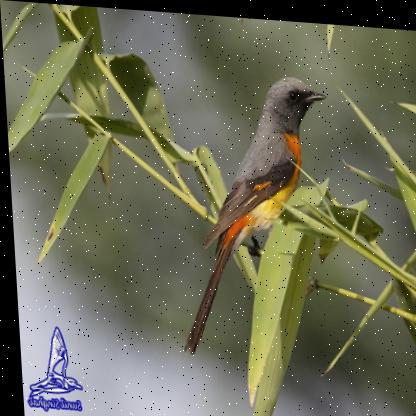Burung: (167, 65, 339, 362)
